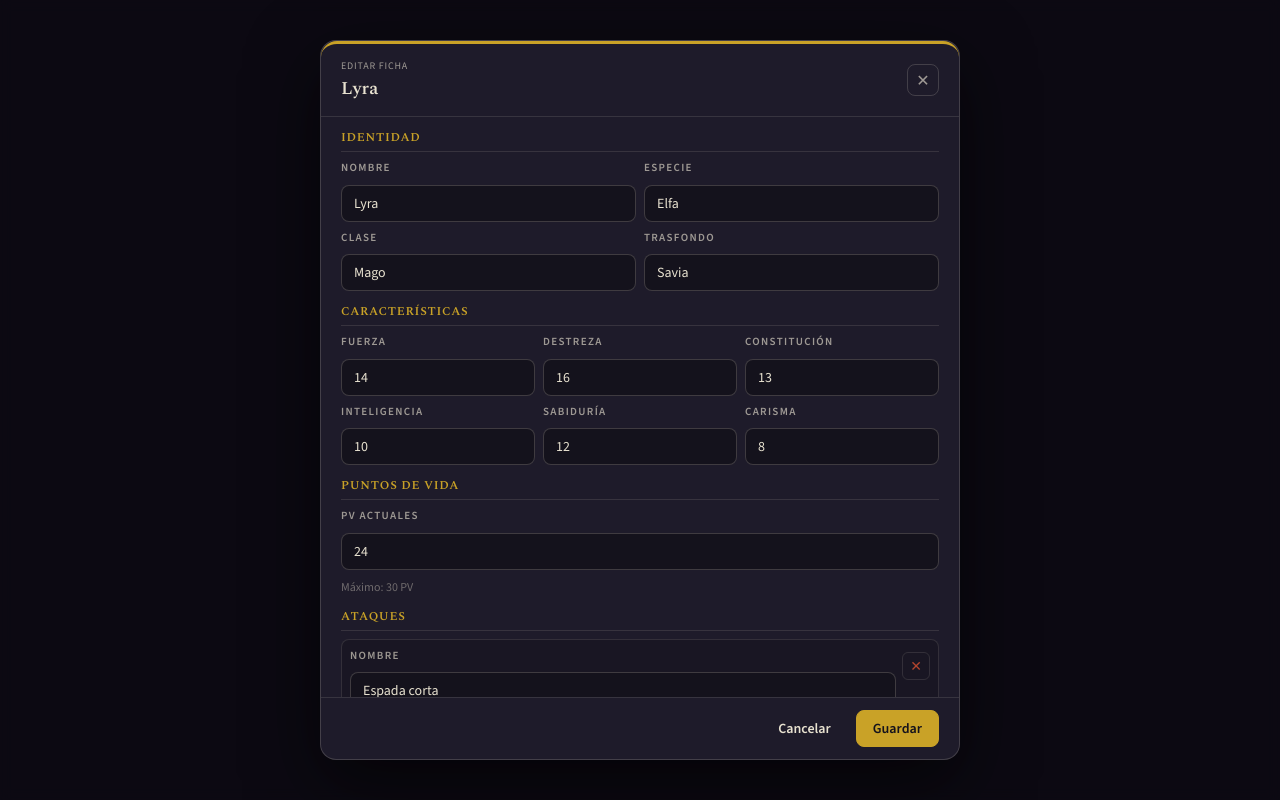
Scenario: EditSheetModal › shows error when save fails
Click the button "Guardar". click: (897, 728)
box: top-left (856, 710), bottom-right (939, 747)
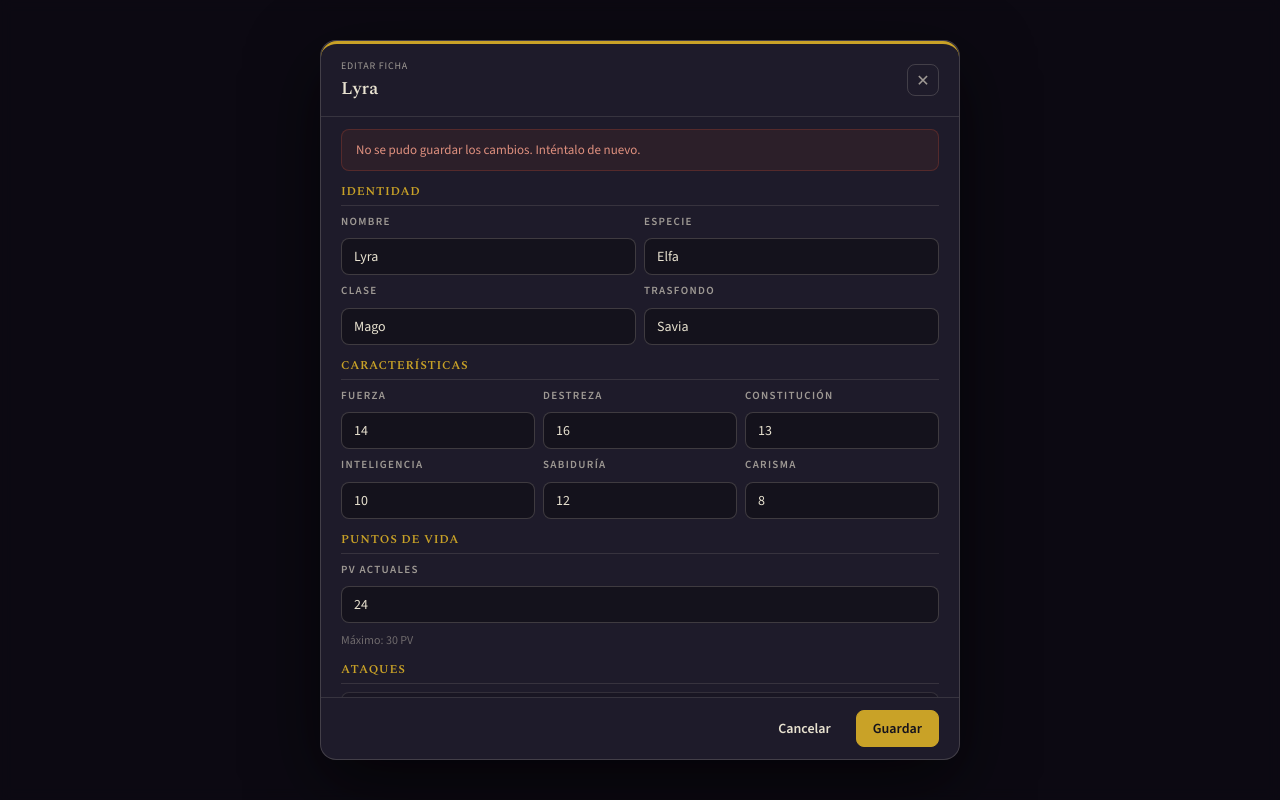
Result: the message shows "No se pudo guardar" at top-left (356, 141), bottom-right (640, 158)
